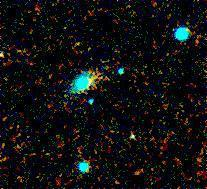star: (66, 31, 96, 61)
